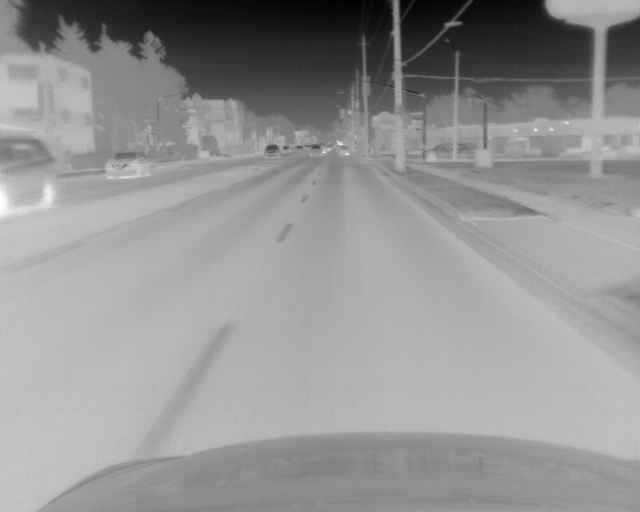car: (1, 134, 58, 213), (105, 151, 152, 178), (424, 141, 477, 163), (307, 143, 326, 158), (264, 144, 280, 159), (337, 144, 349, 156), (293, 144, 304, 154), (282, 144, 291, 155)
